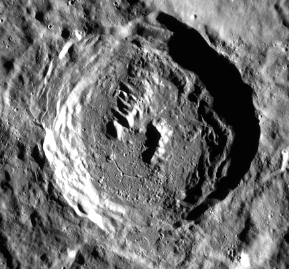crater: (17, 16, 275, 246)
